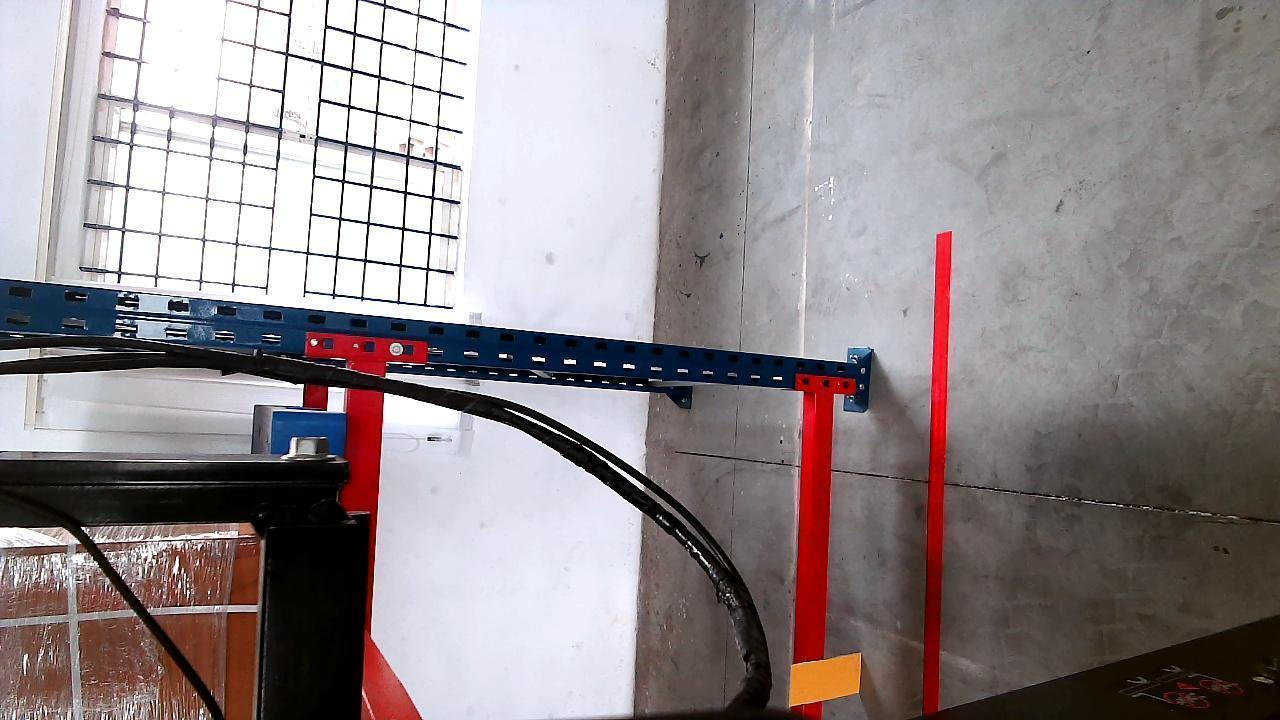red_line: (922, 229, 951, 716)
